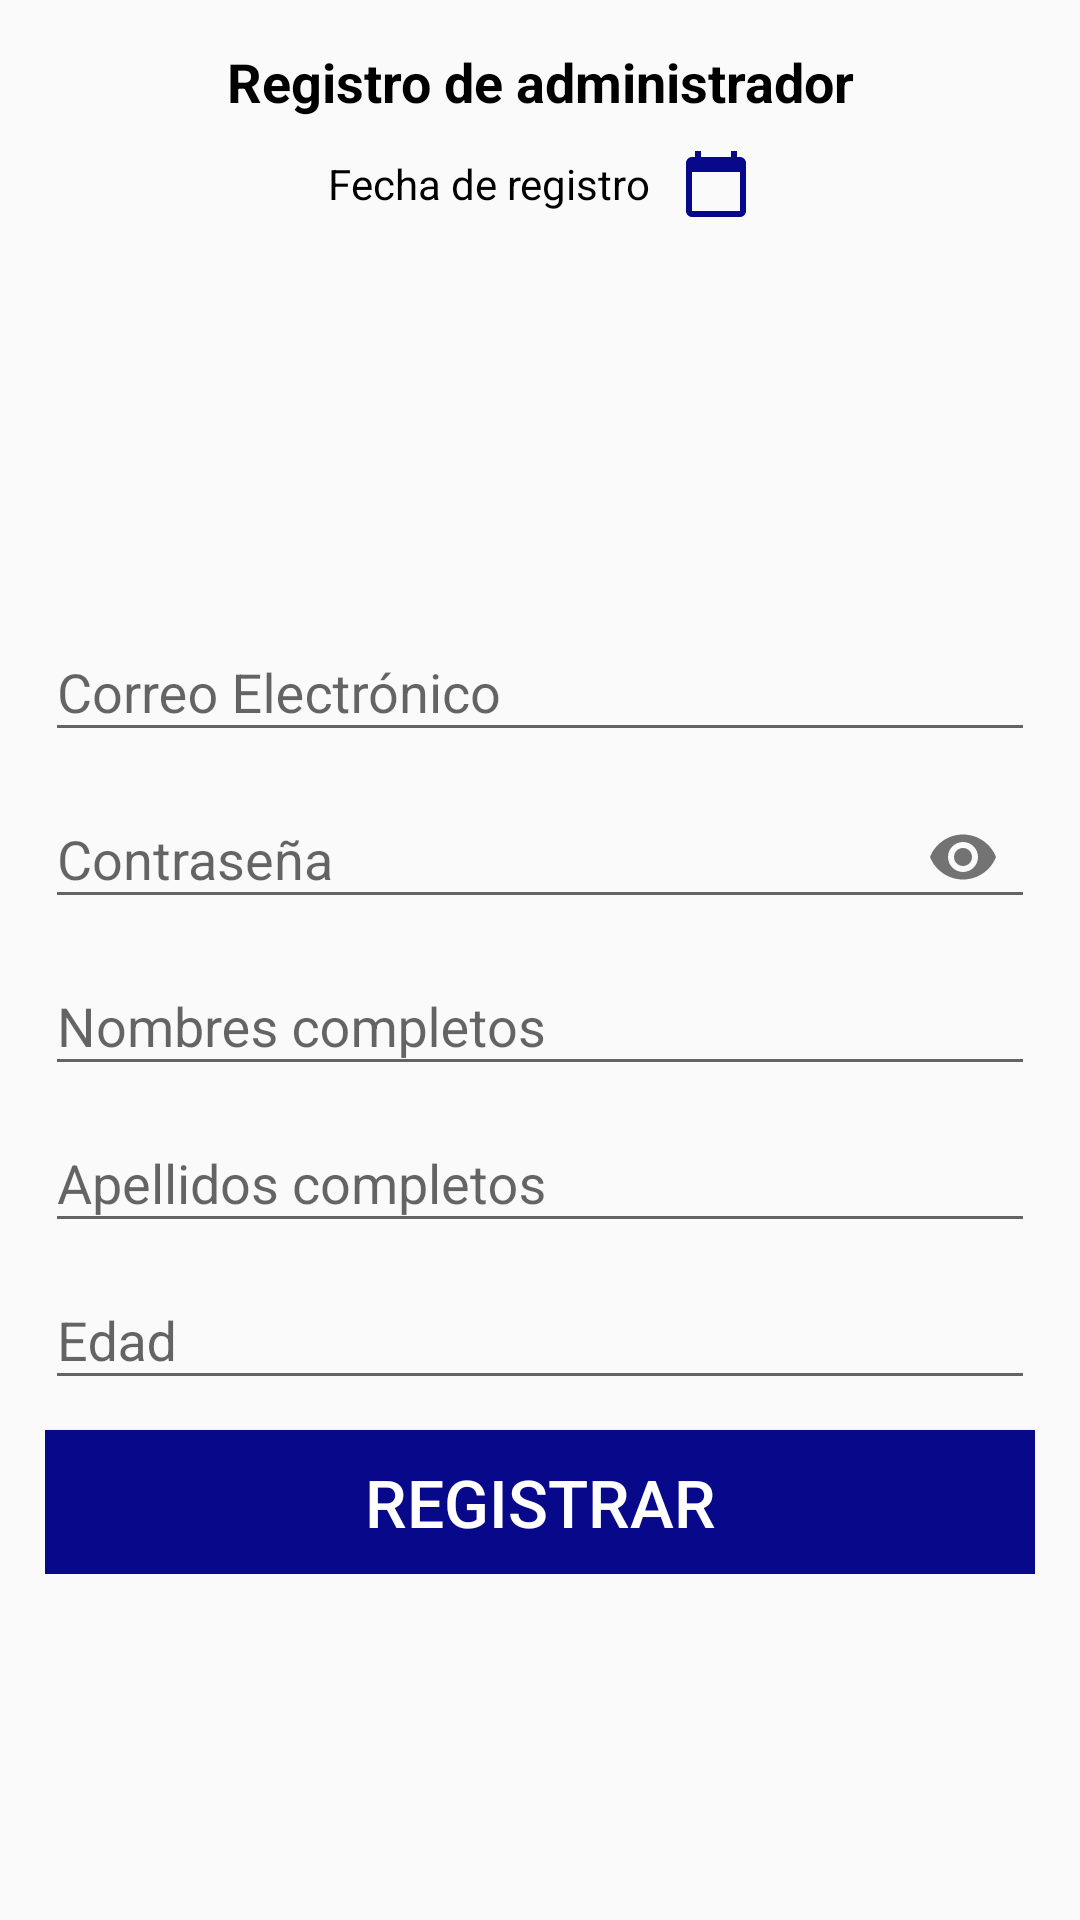

Named icons in this screenshot (1080 × 1920) and their centers, (x=x, y=y):
calendario: (x=716, y=184)
